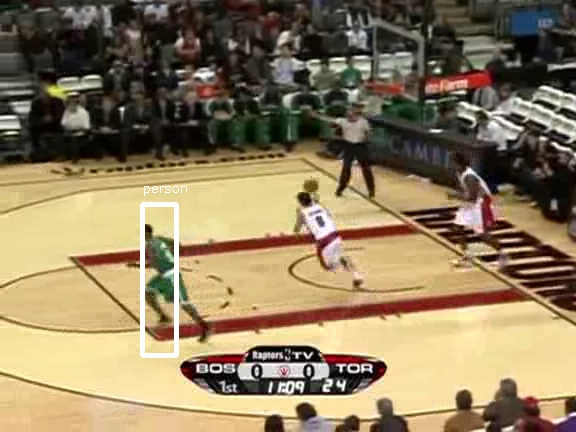person: (150, 233, 184, 314), (149, 233, 183, 314), (151, 233, 185, 314), (150, 232, 184, 313), (150, 234, 184, 315)
target_negative: (352, 212, 528, 398), (243, 289, 425, 364), (525, 354, 571, 419), (173, 232, 191, 363), (287, 280, 352, 293), (428, 386, 454, 410)
